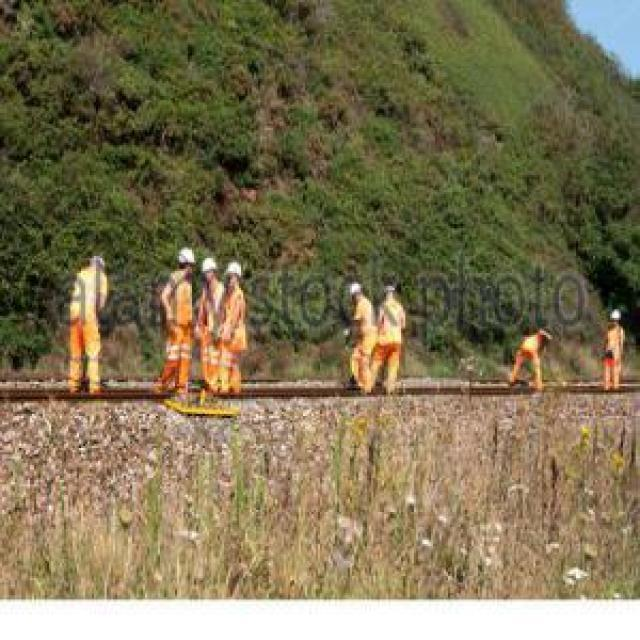rail: (1, 381, 640, 417)
